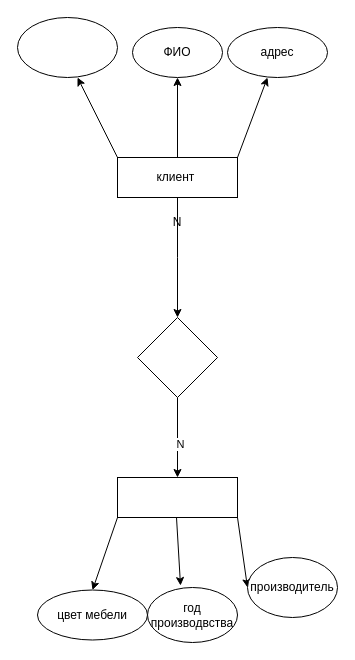
Image size: 355x660. Some labels were removed from this diagram. Each missing label, with the centre of its shape:
время доставки: point (67, 47)
выбирает мебель: point (177, 357)
мебель: point (177, 497)
